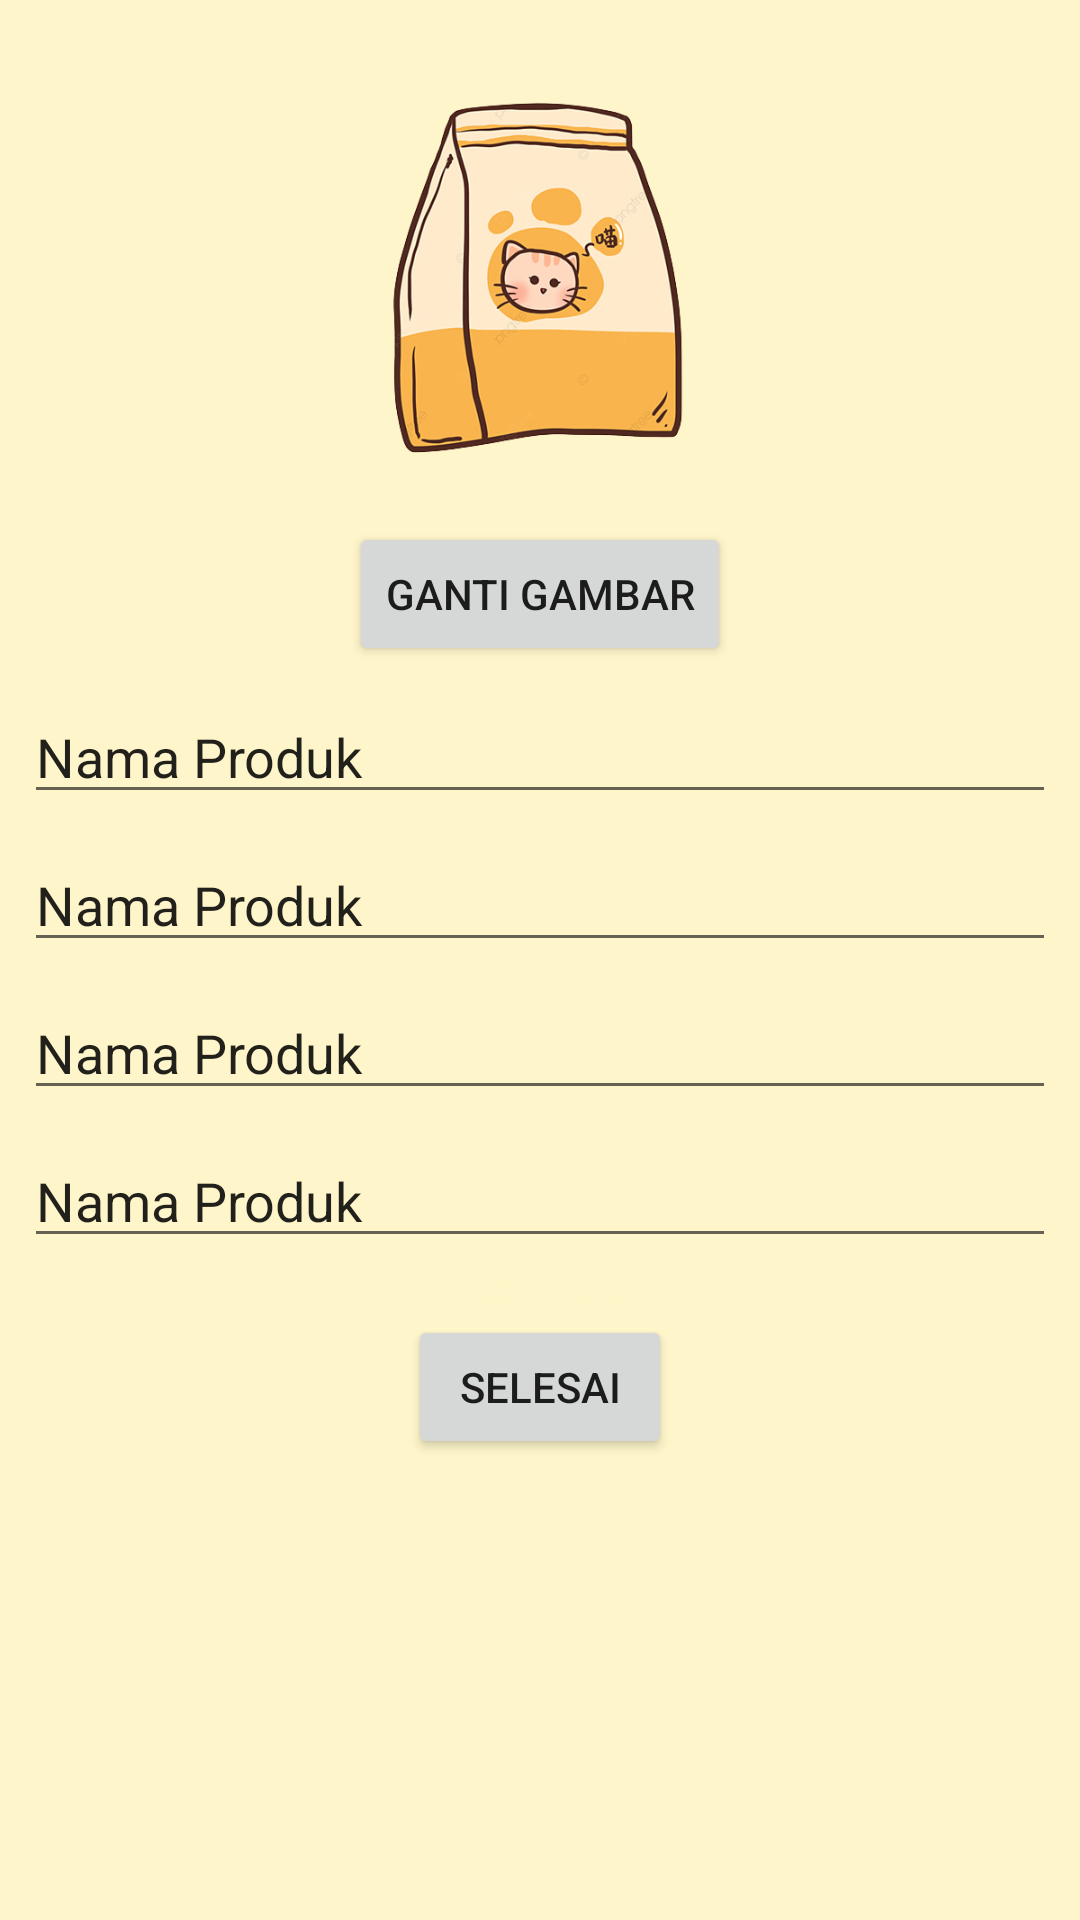

Screen size 1080 x 1920. Icon name, then its box in pixels as (x1, y1, x2, y2):
catfood: (393, 103, 682, 453)
